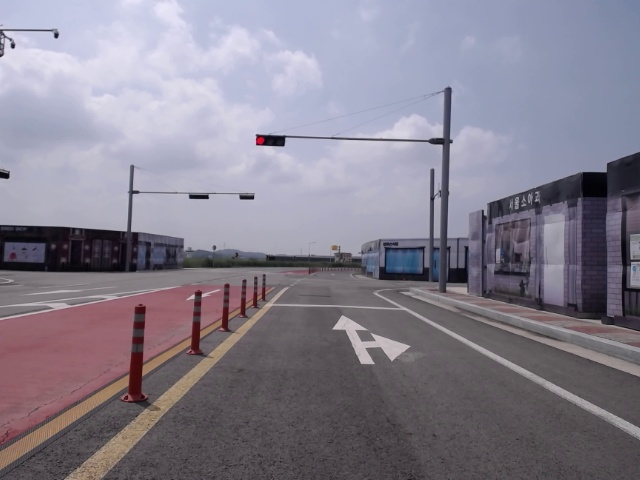red_3: (256, 136, 287, 147)
